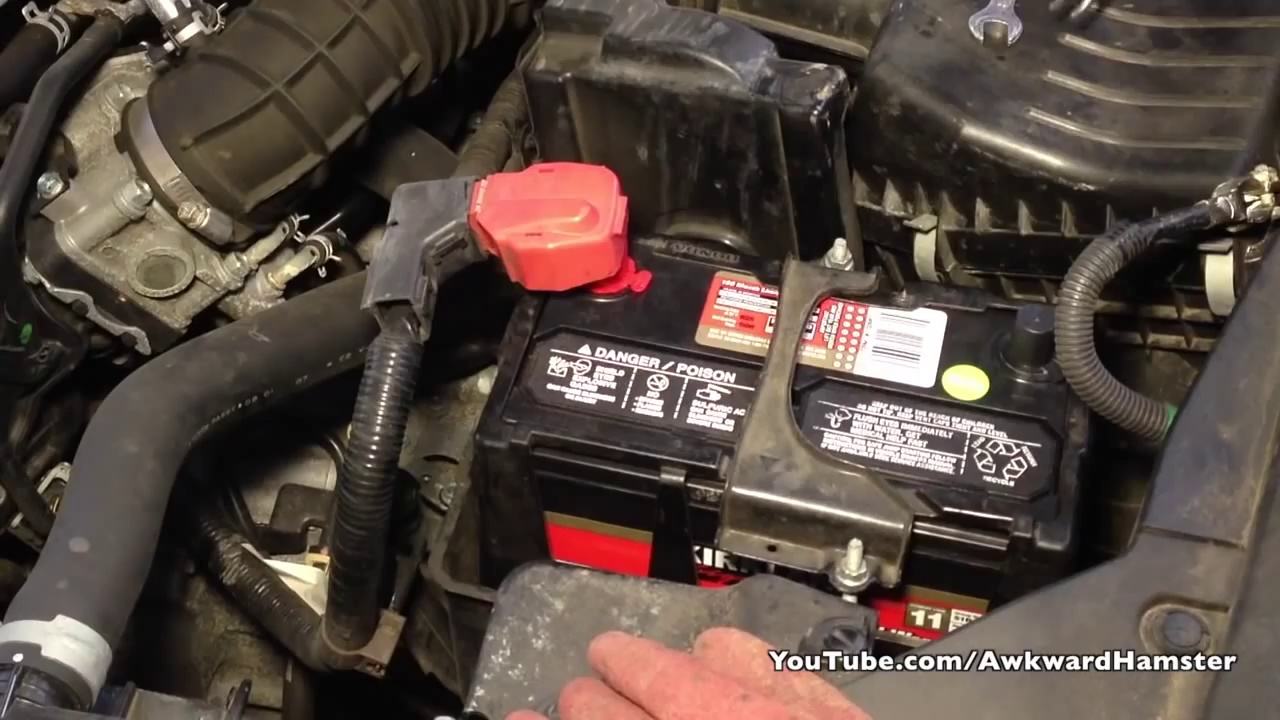battery: (484, 218, 1088, 551)
pos_connected: (404, 153, 670, 321)
